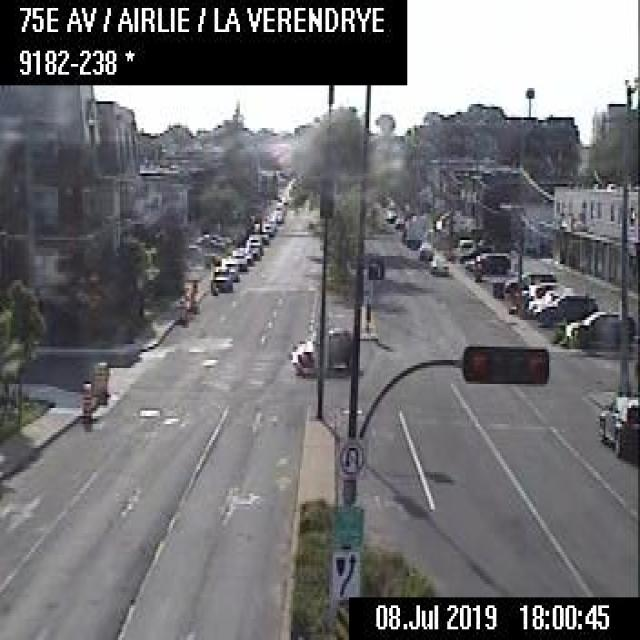construction: (92, 358, 108, 406), (80, 378, 92, 424), (184, 278, 198, 314), (176, 294, 187, 320)
vehicle: (564, 306, 636, 347), (290, 331, 351, 376), (598, 389, 638, 456), (534, 289, 600, 326), (504, 268, 556, 297), (464, 250, 512, 276), (209, 266, 231, 291), (220, 257, 238, 282), (416, 238, 434, 260), (230, 248, 247, 271), (429, 253, 447, 272), (245, 233, 261, 247)
